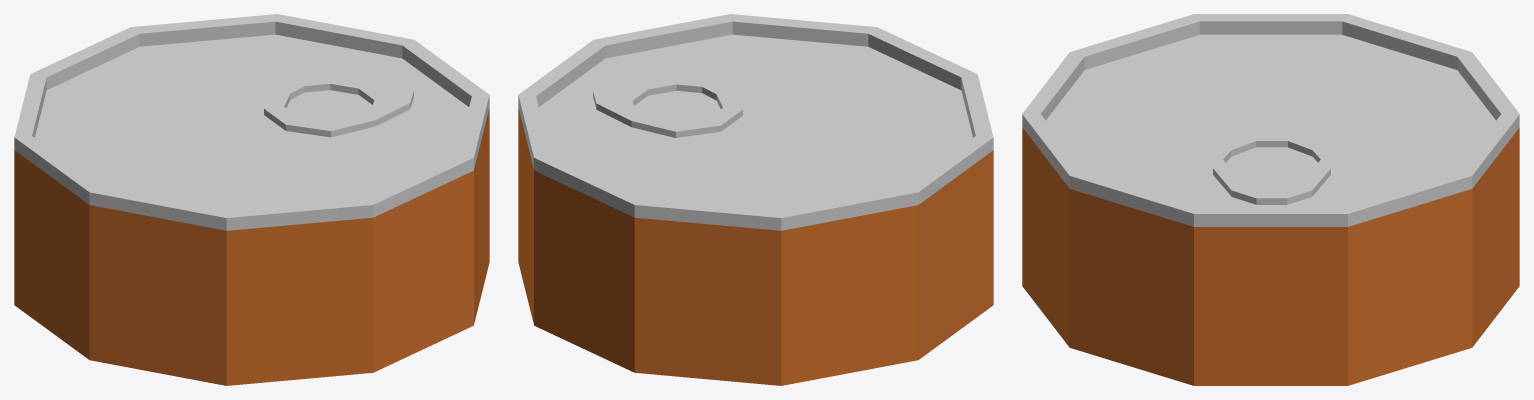
Rendered from Ma_Canned_Big_1.fbx.
The picture shows the model from 3 angles, left to right: view 1: azimuth 30°, elevation 25°; view 2: azimuth 150°, elevation 25°; view 3: azimuth 270°, elevation 25°; orthographic projection. The views are drawn at different scales.
Parts seen in each view (by area): view 1: Ma_Canned_Big_1; view 2: Ma_Canned_Big_1; view 3: Ma_Canned_Big_1.
Boxes of the visible parts, box(x1,y1,x2,y2) form: Ma_Canned_Big_1: box(14, 14, 489, 385); Ma_Canned_Big_1: box(518, 14, 993, 385); Ma_Canned_Big_1: box(1022, 14, 1519, 385).
Bounding box in the file's own units: 129 × 136 × 51.81.
